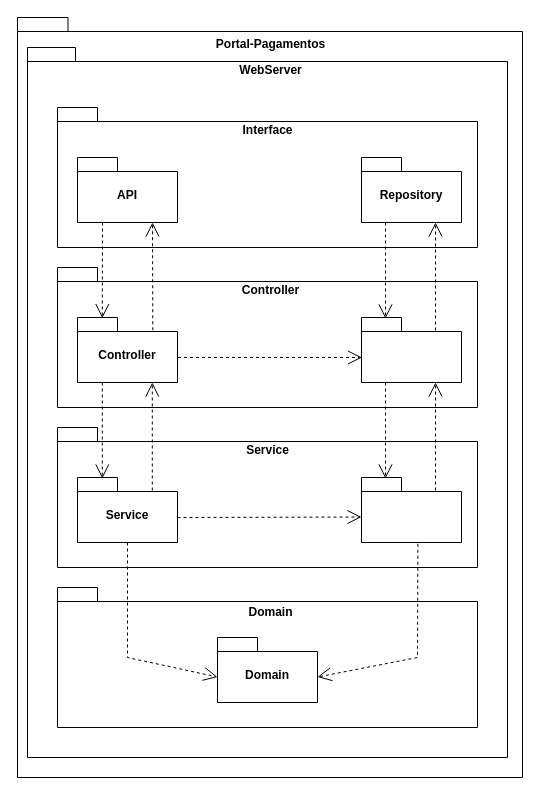
The diagram is 540 pixels wide and 795 high, and some of its shapes have lost their labels. The centre of each missing label's shape, as x and y in pixels:
"Factory" belongs at (x=411, y=509).
"Mapper" belongs at (x=411, y=349).
